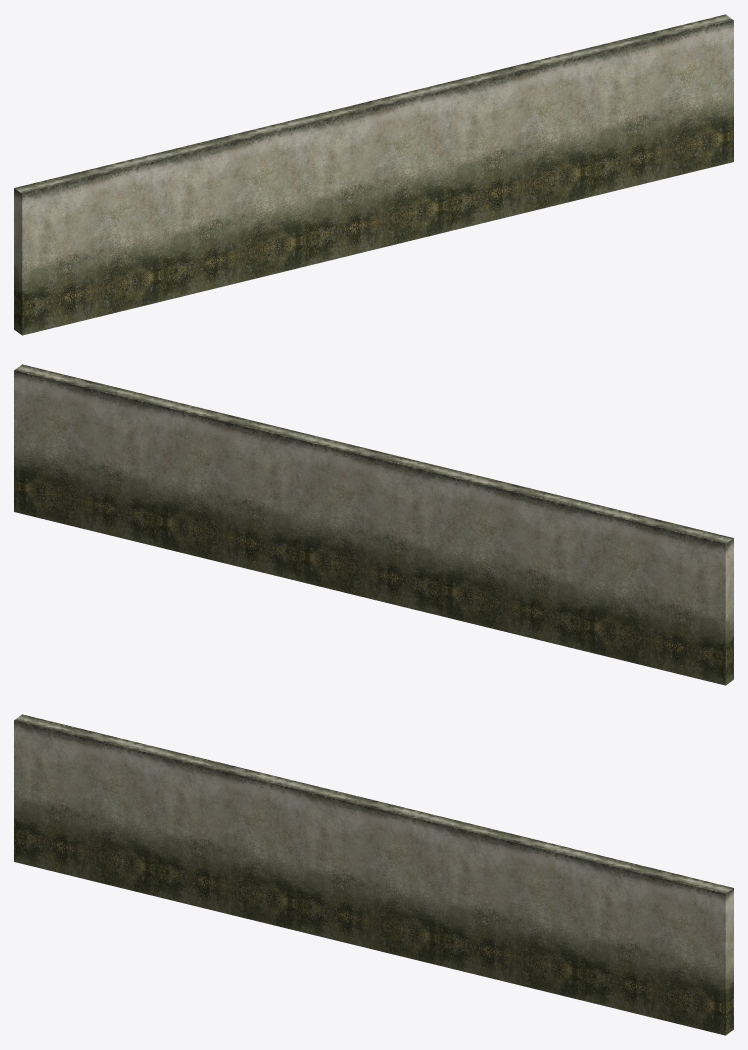
File: TallWallStucco_100.fbx
3 views of the same model, one above another, from view 1: azimuth 30°, elevation 25°; view 2: azimuth 150°, elevation 25°; view 3: azimuth 330°, elevation 25° (orthographic).
Parts seen in each view (by area): view 1: lod_high; view 2: lod_high; view 3: lod_high.
Boxes of the visible parts, x1=… form: lod_high: x1=14, y1=14, x2=733, y2=335; lod_high: x1=14, y1=364, x2=733, y2=685; lod_high: x1=14, y1=714, x2=733, y2=1035.
Bounding box in the file's own units: 10000 × 1900 × 202.
Materials: 1 (1 with a texture image).
